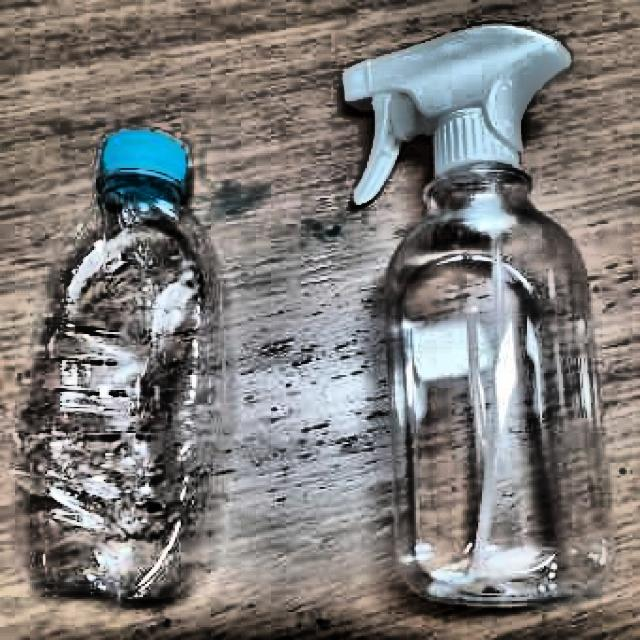Bottles: (0, 101, 269, 616)
